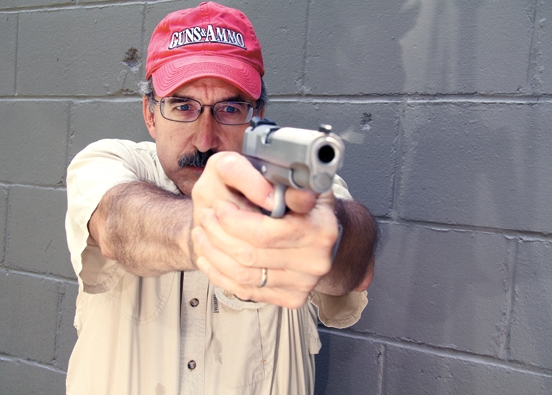gun: (240, 115, 349, 223)
